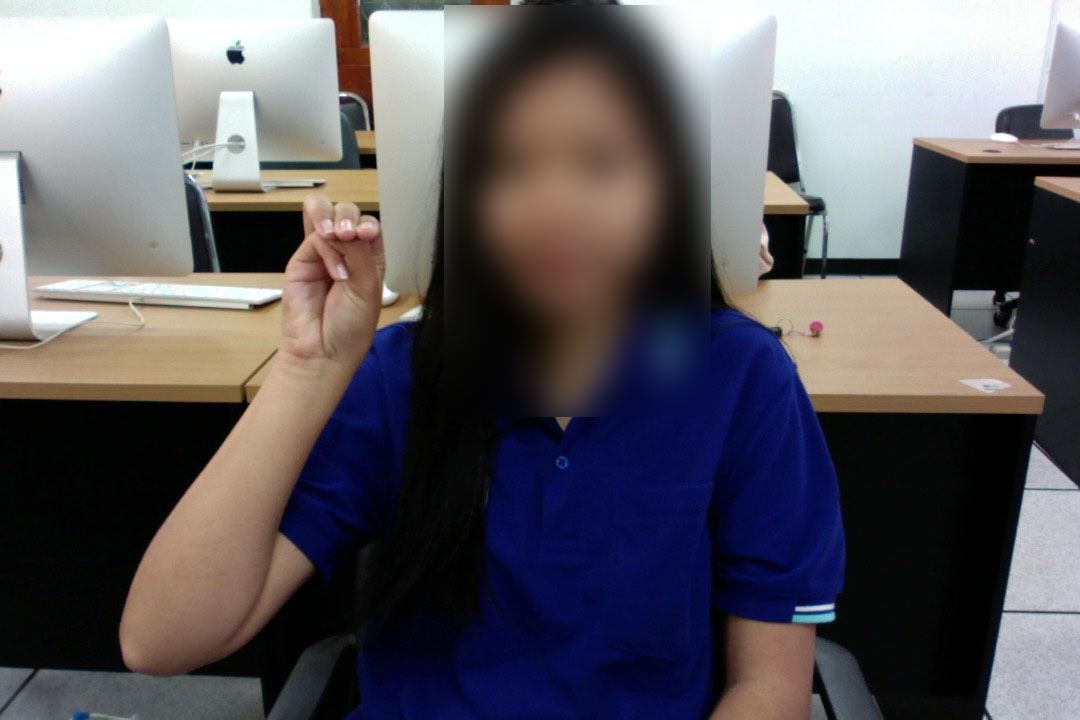mor: (280, 189, 390, 383)
